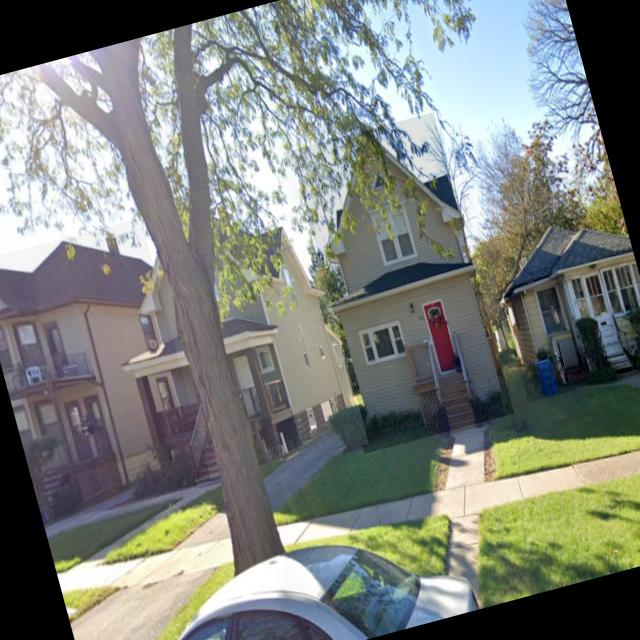House: (82, 165, 368, 500), (284, 112, 514, 454), (0, 217, 211, 525), (484, 205, 640, 402)
